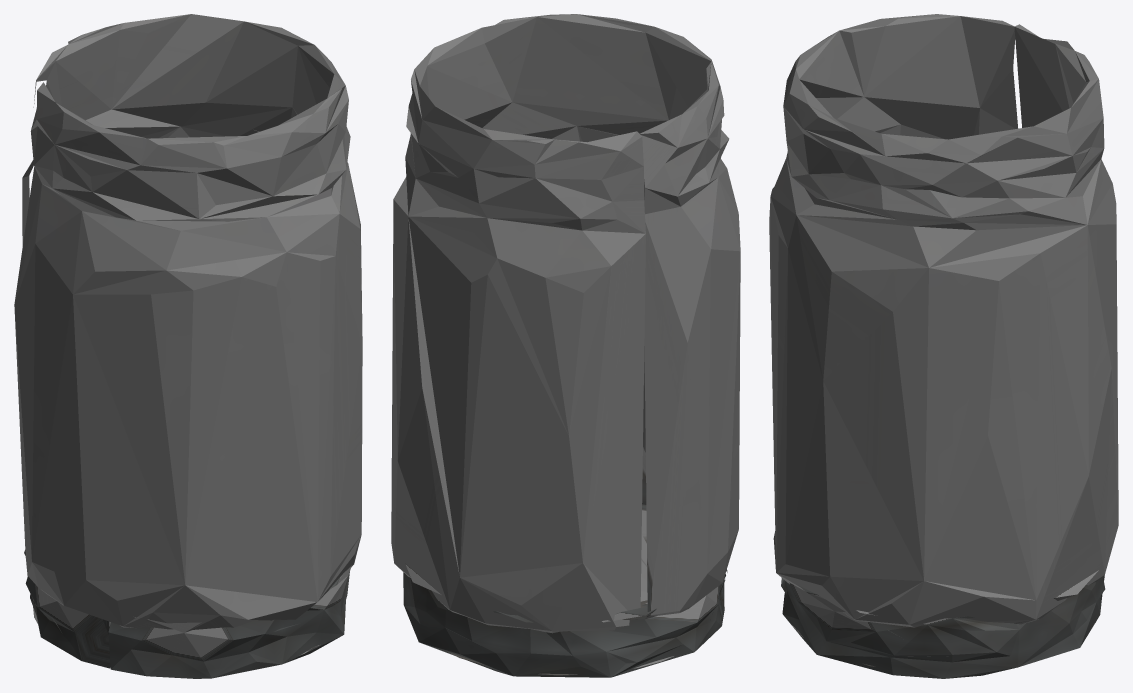
The model's file is container_jar_glass_silver_a02.glb.
3 views of the same model, side by side, from view 1: azimuth 30°, elevation 25°; view 2: azimuth 150°, elevation 25°; view 3: azimuth 270°, elevation 25° (orthographic).
Parts seen in each view (by area): view 1: geometry_0; view 2: geometry_0; view 3: geometry_0.
Part boxes in pixels (left/top/right/bottom): geometry_0: left=14, top=14, right=362, bottom=678; geometry_0: left=391, top=14, right=740, bottom=677; geometry_0: left=769, top=14, right=1118, bottom=678.
Bounding box in the file's own units: 0.246 × 0.42 × 0.2468.
Materials: 1 (1 with a texture image).
